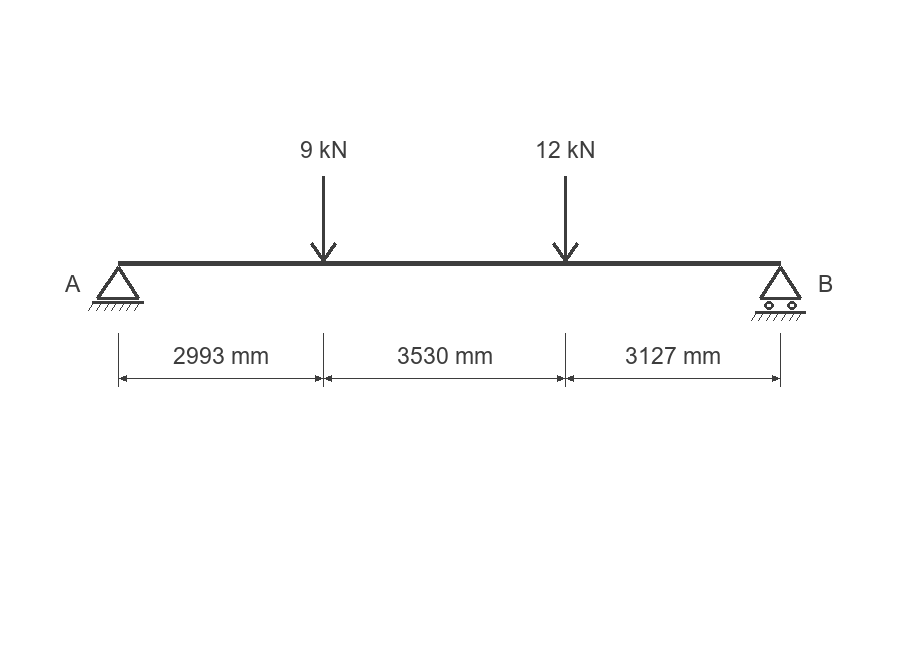pin_support: (88, 266, 144, 311)
point_load: (310, 176, 337, 262), (552, 176, 579, 262)
roller_support: (751, 266, 806, 321)
